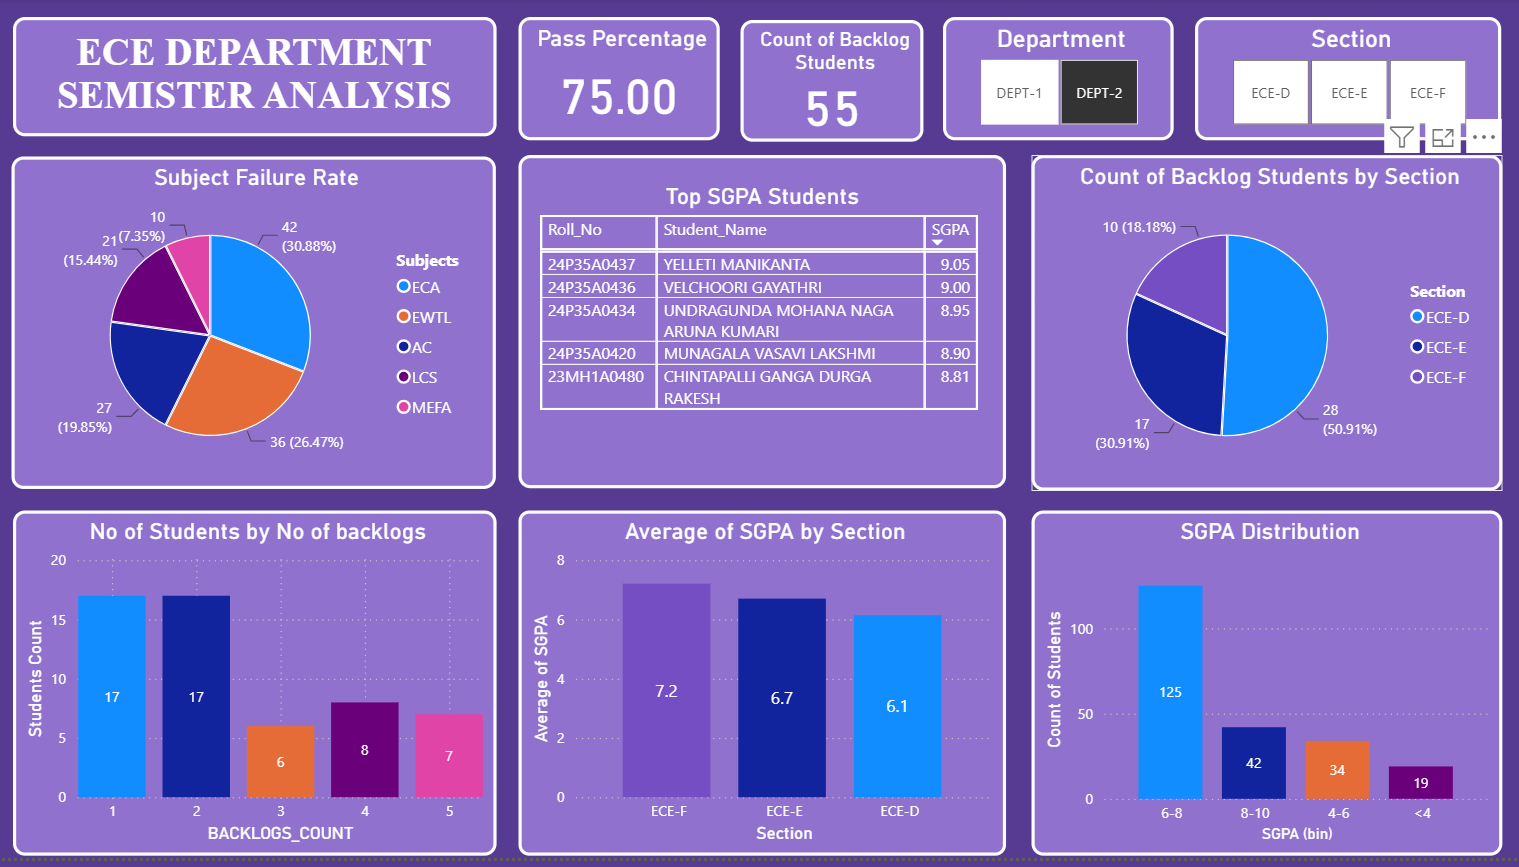

Layout of this report page (visuals, bound fields, positions):
{"tool":"powerbi","page":{"name":"Page 1","canvas":[1280,720],"ordinal":0},"visuals":[{"type":"pieChart","title":"Subject Failure Rate","fields":{"Category":["SEM_ANALYSIS123.Subjects"],"Y":["Divide(CountNonNull(SEM_ANALYSIS123.Pass_or_fail), ScopedEval(CountNonNull(SEM_ANALYSIS123.Pass_or_fail), []))"],"Series":["SEM_ANALYSIS123.Pass_or_fail"]},"box":[16.7,131.7,405.8,278.6],"z":0},{"type":"columnChart","title":"Average of SGPA by Section","fields":{"Category":["SEM_ANALYSIS123 (2).Section"],"Y":["Avg(SEM_ANALYSIS123 (2).SGPA)"],"Series":["SEM_ANALYSIS123 (2).Section"]},"box":[441.4,429.3,408.6,289.7],"z":1000},{"type":"slicer","title":"Department","fields":{"Values":["SEM_ANALYSIS123 (2).Department"]},"box":[796.6,15.5,193.1,103.4],"z":2000},{"type":"slicer","title":"Section","fields":{"Values":["SEM_ANALYSIS123 (2).Section"]},"box":[1008.6,15.5,256.9,103.4],"z":3000},{"type":"pieChart","title":"Count of Backlog Students by Section","fields":{"Y":["CountNonNull(SEM_ANALYSIS123 (2).BACKLOGS_OR_NOT)"],"Category":["SEM_ANALYSIS123 (2).Section"]},"box":[870.7,131,394.8,281],"z":4000},{"type":"columnChart","title":"SGPA Distribution","fields":{"Category":["SEM_ANALYSIS123 (2).SGPA_Bin"],"Y":["CountNonNull(SEM_ANALYSIS123 (2).SGPA)"],"Series":["SEM_ANALYSIS123 (2).SGPA_Bin"]},"box":[870.7,429.3,394.8,289.7],"z":5000},{"type":"columnChart","title":"No of Students by No of backlogs ","fields":{"Category":["SEM_ANALYSIS123 (2).BACKLOGS_COUNT"],"Y":["CountNonNull(SEM_ANALYSIS123 (2).SGPA)"],"Series":["SEM_ANALYSIS123 (2).BACKLOGS_COUNT"]},"box":[17.2,429.3,405.2,289.7],"z":6000},{"type":"tableEx","title":"Top SGPA Students","fields":{"Values":["SEM_ANALYSIS123 (2).Roll_No","SEM_ANALYSIS123 (2).Student_Name","SEM_ANALYSIS123 (2).SGPA"]},"box":[441.4,131,408.6,279.3],"z":7000},{"type":"card","title":"Count of Backlog Students","fields":{"Values":["CountNonNull(SEM_ANALYSIS123 (2).BACKLOGS_OR_NOT)"]},"box":[627.6,17.2,153.4,101.7],"z":8000},{"type":"card","title":"Pass Percentage","fields":{"Values":["SEM_ANALYSIS123 (2).Pass Percentage"]},"box":[441.4,15.5,169,103.4],"z":9000},{"type":"textbox","box":[17.2,15.5,405.2,100],"z":10000}]}

Visuals, with their boxes in screenshot pixels (x1, y1, x2, y2), scaled from the page's 1280x720 canvas onto the 1519x867 screenshot:
"Subject Failure Rate" pieChart: crop(20, 159, 501, 494)
"Average of SGPA by Section" columnChart: crop(524, 517, 1009, 866)
"Department" slicer: crop(945, 19, 1174, 143)
"Section" slicer: crop(1197, 19, 1502, 143)
"Count of Backlog Students by Section" pieChart: crop(1033, 158, 1502, 496)
"SGPA Distribution" columnChart: crop(1033, 517, 1502, 866)
"No of Students by No of backlogs " columnChart: crop(20, 517, 501, 866)
"Top SGPA Students" tableEx: crop(524, 158, 1009, 494)
"Count of Backlog Students" card: crop(745, 21, 927, 143)
"Pass Percentage" card: crop(524, 19, 724, 143)
textbox: crop(20, 19, 501, 139)
